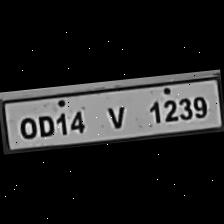0: (15, 114, 38, 140)
1: (140, 98, 164, 127), (50, 109, 70, 136)
2: (158, 96, 180, 124)
3: (176, 96, 194, 122)
4: (64, 106, 90, 135)
9: (188, 92, 210, 119)
D: (34, 111, 56, 137)
V: (98, 100, 133, 132)
